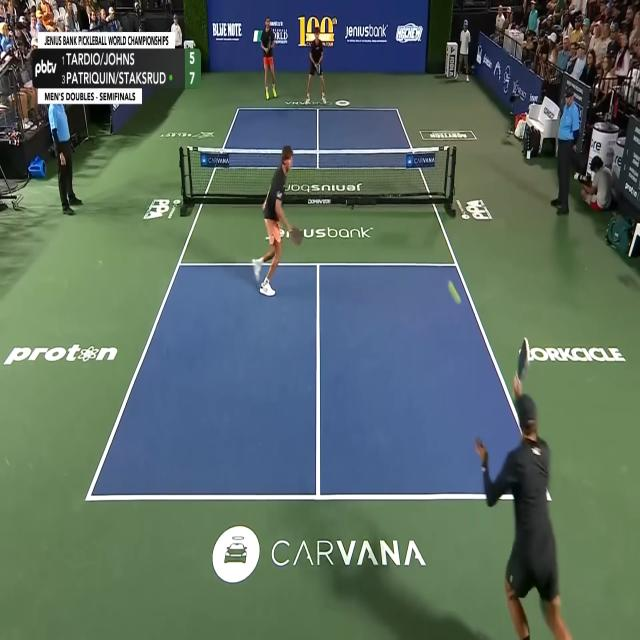ball: (448, 279, 462, 305)
